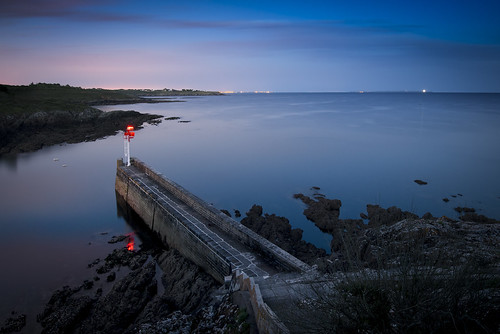sea: (163, 90, 498, 209)
sky: (1, 1, 496, 90)
